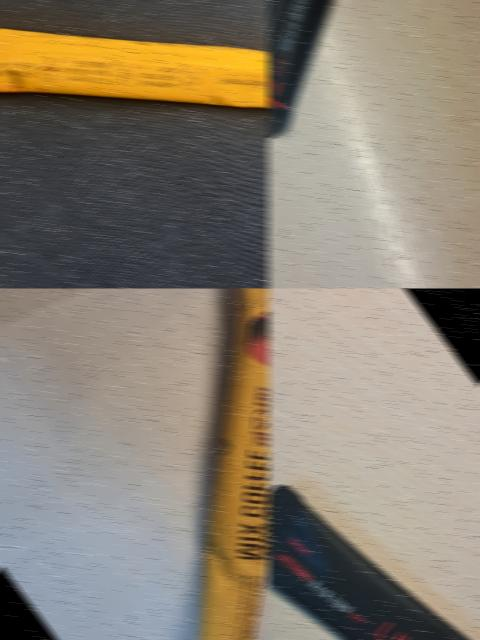KANU: (266, 423, 480, 640), (266, 0, 462, 164)
mix_coffee: (0, 288, 269, 640), (0, 0, 269, 288)
